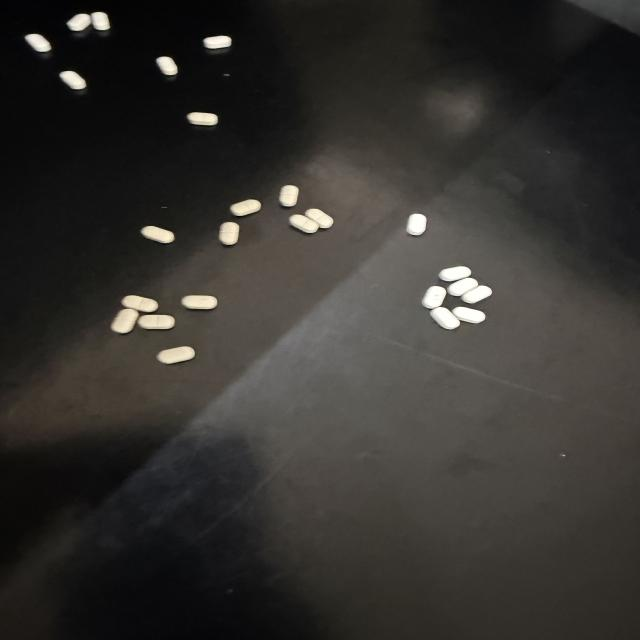pill: (111, 308, 138, 333), (122, 295, 158, 313), (430, 307, 459, 329), (157, 347, 195, 363), (141, 226, 174, 243), (422, 286, 446, 309), (289, 214, 318, 233), (448, 278, 478, 296), (305, 209, 333, 228), (453, 307, 485, 323), (462, 286, 492, 303), (138, 315, 174, 329), (230, 200, 261, 216), (182, 295, 217, 309), (439, 266, 471, 281), (60, 71, 86, 89), (25, 34, 51, 52), (219, 222, 239, 245), (156, 56, 178, 76), (407, 213, 426, 235), (67, 14, 91, 31), (187, 113, 218, 126), (280, 185, 298, 206), (203, 36, 231, 49), (91, 12, 110, 30)
